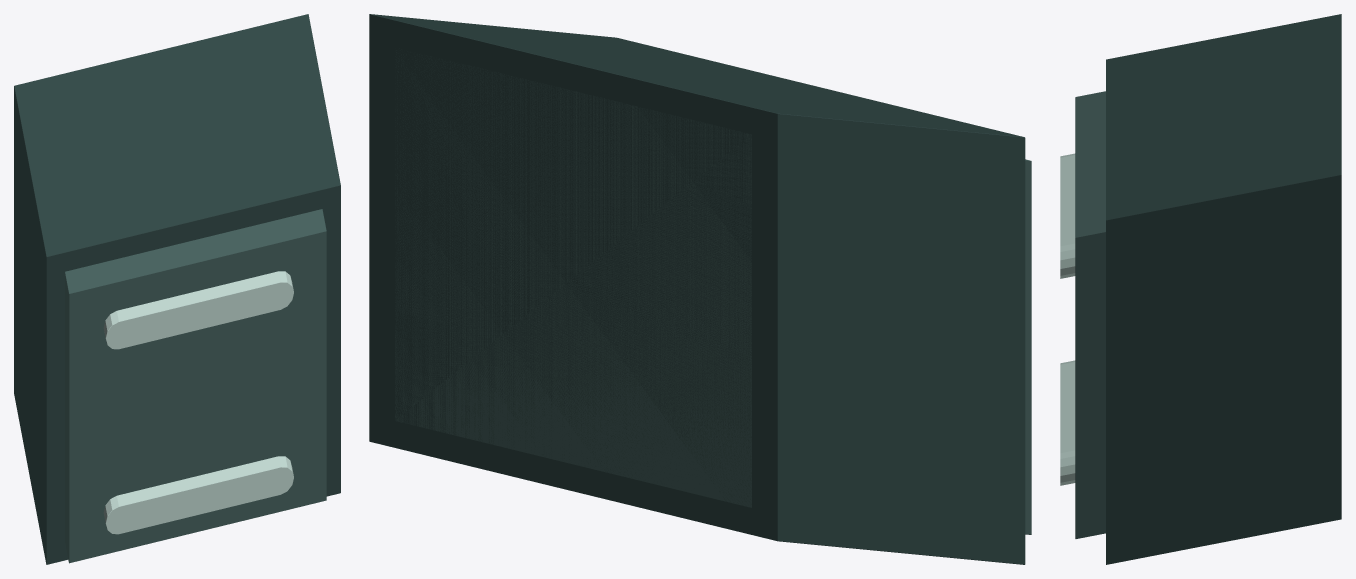
The model's file is LockWall_Tile.gltf.
The picture shows the model from 3 angles, left to right: view 1: azimuth 30°, elevation 25°; view 2: azimuth 150°, elevation 25°; view 3: azimuth 270°, elevation 25°; orthographic projection. The views are drawn at different scales.
Parts seen in each view (by area): view 1: LockWall_Tile_baked; view 2: LockWall_Tile_baked; view 3: LockWall_Tile_baked.
Part boxes in pixels (x1,y1,x2,y2): LockWall_Tile_baked: (14, 14, 340, 564); LockWall_Tile_baked: (369, 14, 1031, 564); LockWall_Tile_baked: (1060, 14, 1341, 564).
Size of the model in its own units: 1.25 by 1.25 by 0.74.
